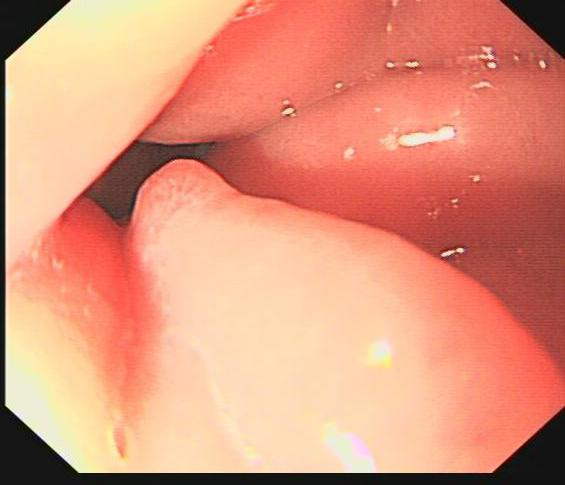Polyp: (120, 154, 238, 246)
